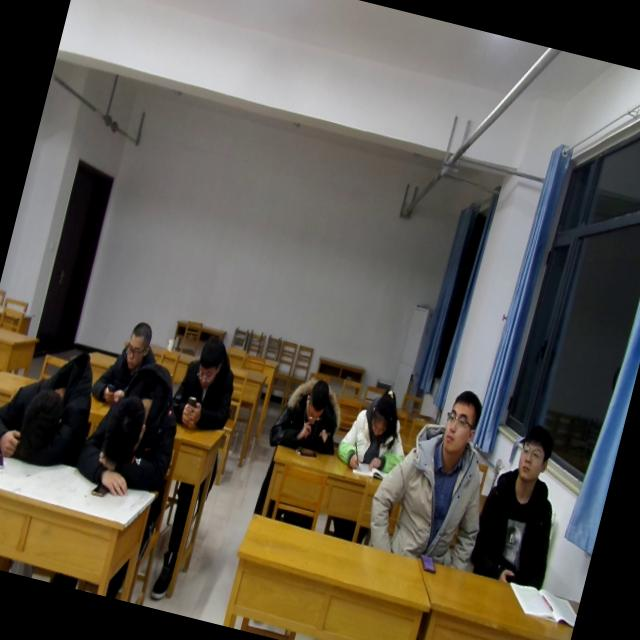bow: (67, 358, 193, 508), (0, 326, 105, 475)
down: (358, 382, 404, 444), (117, 313, 158, 375), (192, 327, 232, 383), (298, 370, 334, 425)
lookup: (435, 379, 490, 462), (512, 417, 558, 487)
sit: (359, 368, 512, 568), (466, 410, 582, 590), (168, 324, 246, 437), (266, 366, 351, 464), (332, 382, 416, 475), (96, 312, 180, 400)
